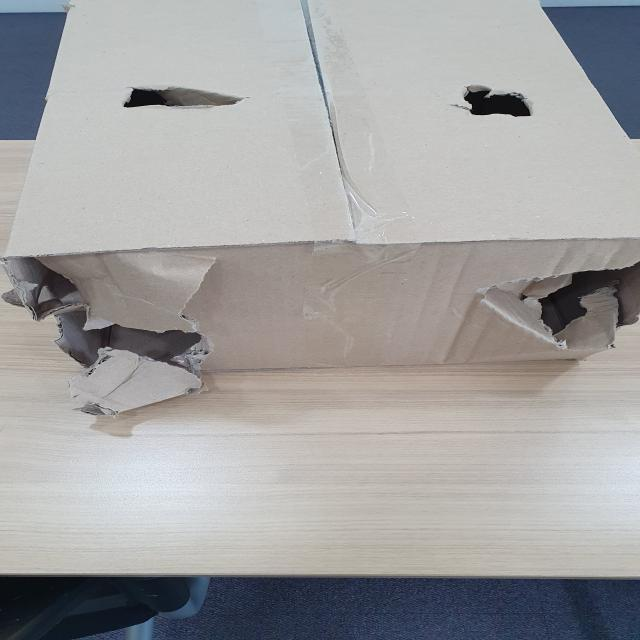hole: (13, 258, 233, 394), (476, 253, 640, 349), (119, 79, 254, 123), (446, 83, 536, 121)
